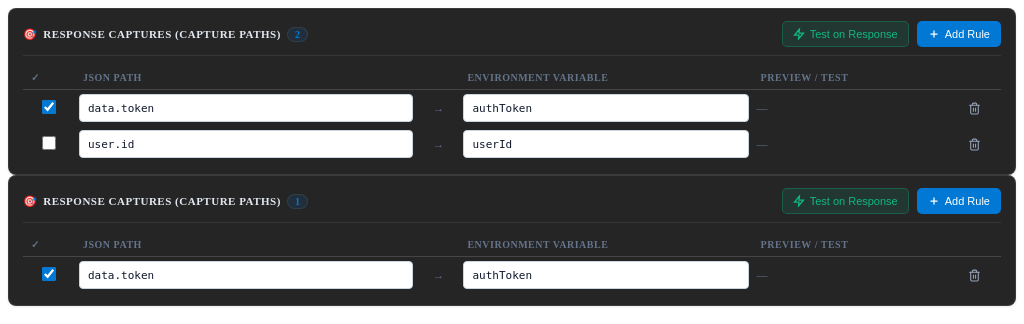
Test: CapturePathsTable › runs live extraction against sample JSON when clicking Test on Response
Click the 2nd button with class "cap-btn-test".
click(845, 201)  # box [782,188,909,214]
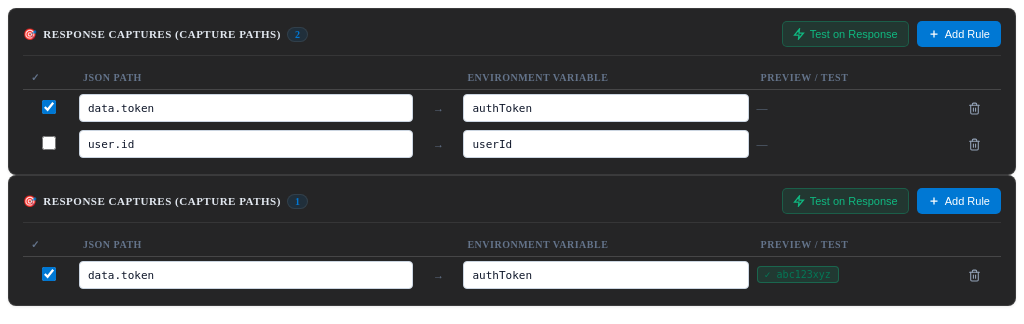
Expected: the text "✓ abc123xyz" is shown, [757,266,839,282]
